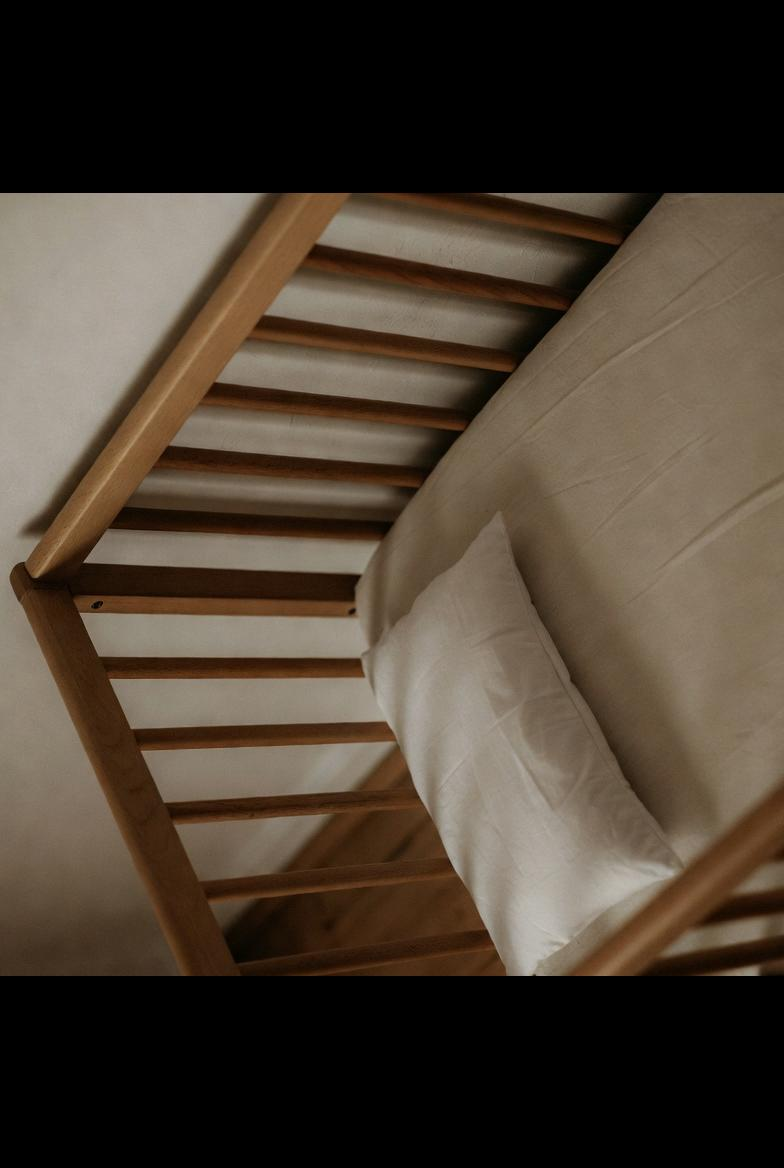crib: (11, 192, 784, 976)
